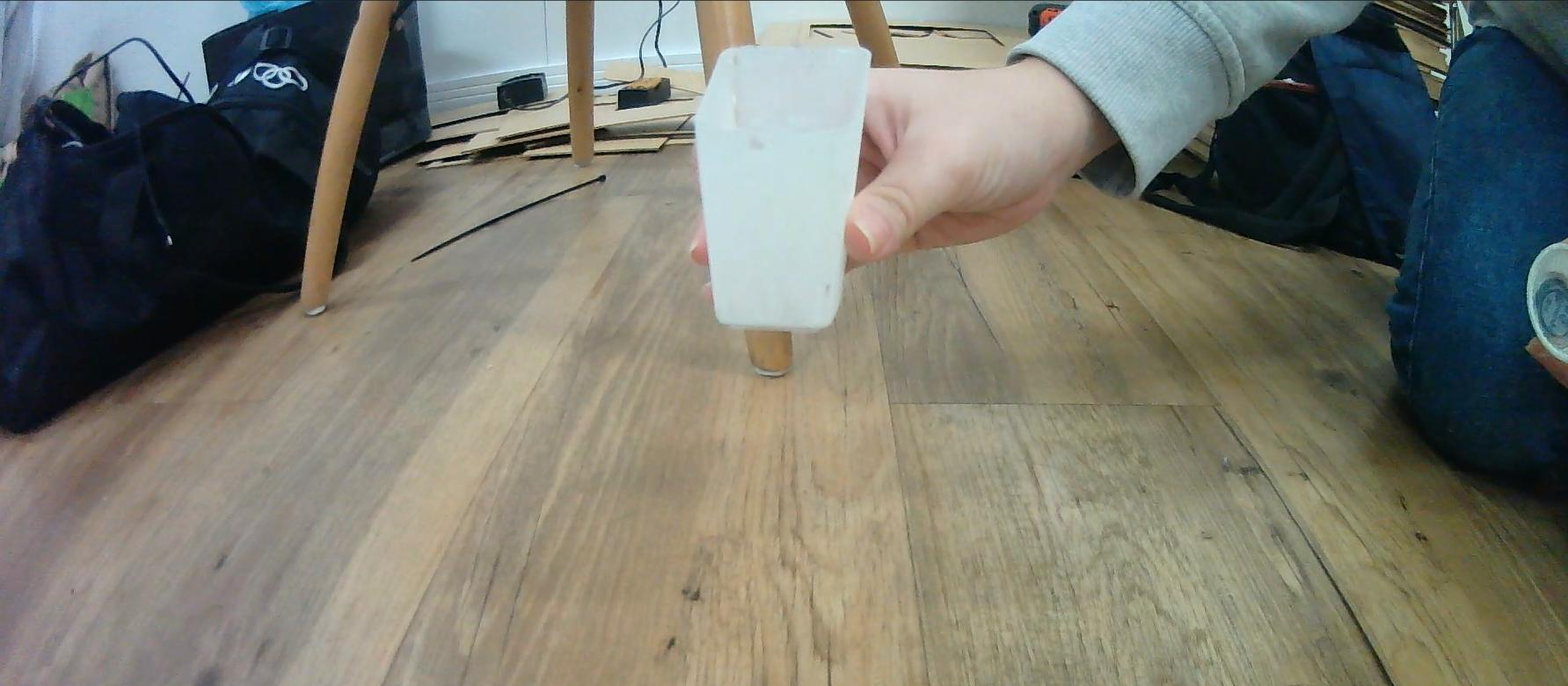erva_daninha: (689, 42, 874, 333)
planta: (1525, 237, 1568, 365)
